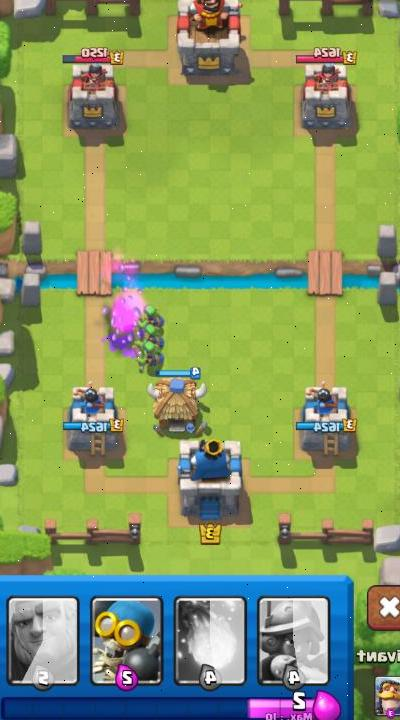enemy_goblin_hut: (145, 371, 210, 438)
player_spear_goblins: (134, 340, 166, 371), (138, 302, 167, 332), (136, 326, 167, 349)
